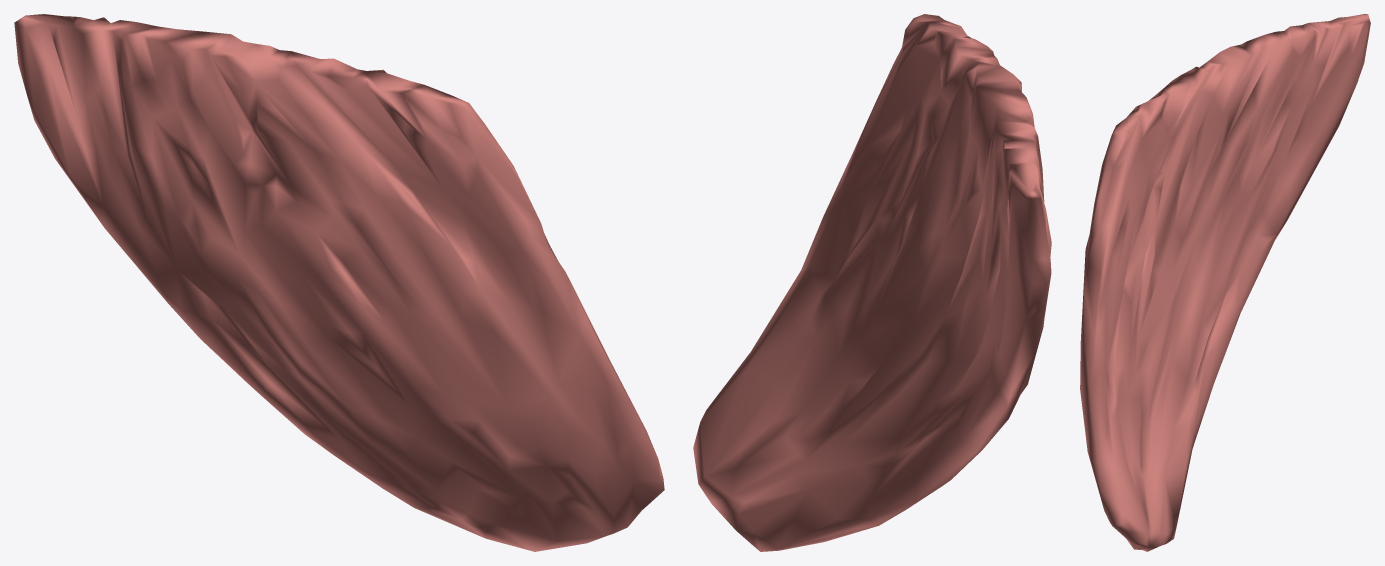
3 renders of one model, left to right at view 1: azimuth 30°, elevation 25°; view 2: azimuth 150°, elevation 25°; view 3: azimuth 270°, elevation 25°, orthographic. The views are drawn at different scales.
Parts seen in each view (by area): view 1: ZA_47ea5970d8d1c7c6; view 2: ZA_47ea5970d8d1c7c6; view 3: ZA_47ea5970d8d1c7c6.
Boxes of the visible parts, x1,y1,x2,y2 form: ZA_47ea5970d8d1c7c6: (14, 14, 664, 551); ZA_47ea5970d8d1c7c6: (693, 14, 1051, 551); ZA_47ea5970d8d1c7c6: (1080, 14, 1370, 551).
Size of the model in its own units: 0.00973 by 0.0103 by 0.00685.
